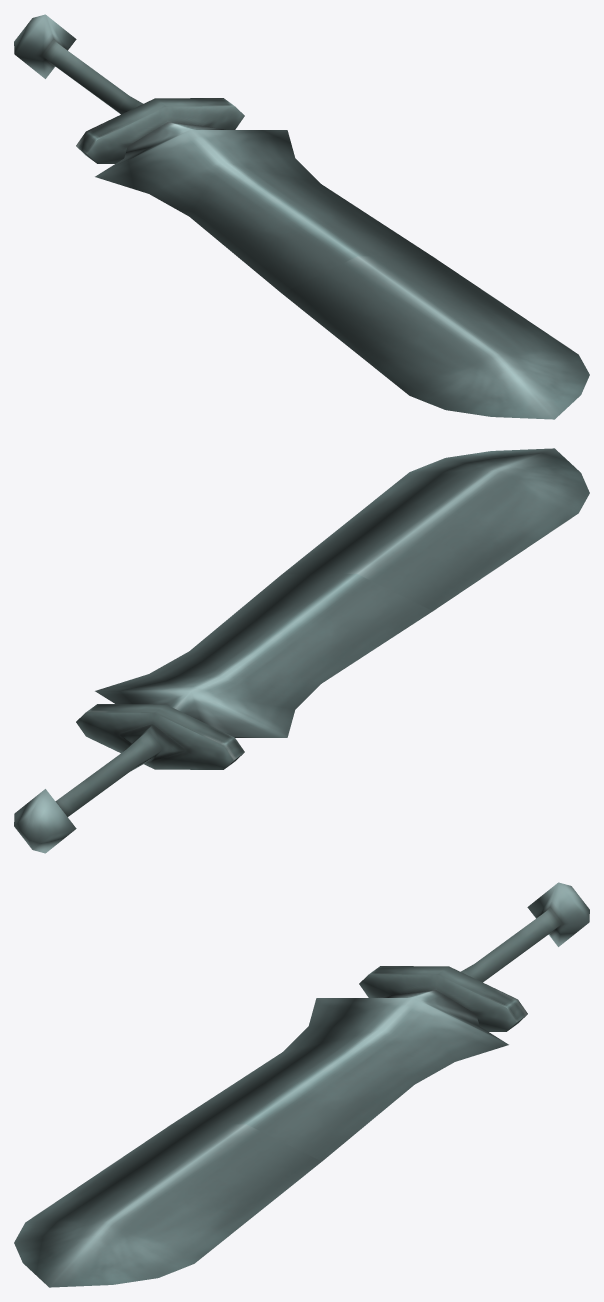
Rendered from 002_002_00010.mdl.fbx.
3 renders of one model, top to bottom at view 1: azimuth 30°, elevation 25°; view 2: azimuth 150°, elevation 25°; view 3: azimuth 330°, elevation 25°, orthographic.
Parts seen in each view (by area): view 1: obj002_002_00010; view 2: obj002_002_00010; view 3: obj002_002_00010.
Part boxes in pixels (<box>): obj002_002_00010: <box>14,14,589,419</box>; obj002_002_00010: <box>14,448,589,853</box>; obj002_002_00010: <box>14,882,589,1287</box>.
Size of the model in its own units: 0.408 by 0.1312 by 1.93.
